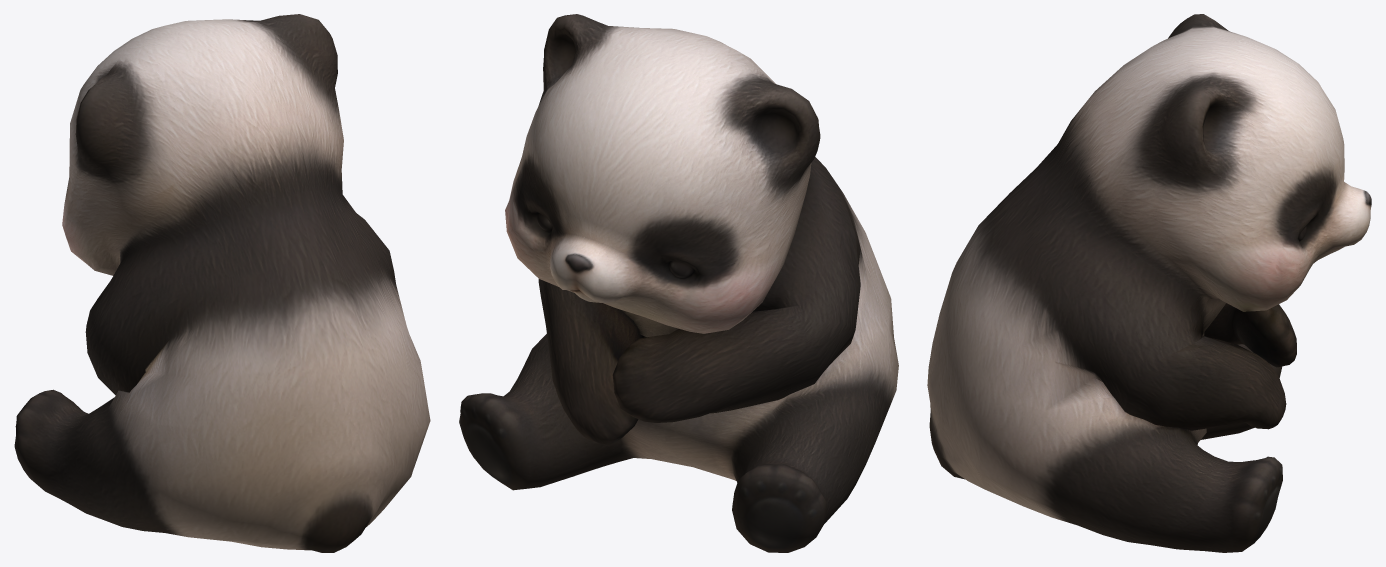
File: panda1.gltf
The picture shows the model from 3 angles, left to right: view 1: azimuth 30°, elevation 25°; view 2: azimuth 150°, elevation 25°; view 3: azimuth 270°, elevation 25°; orthographic projection. The views are drawn at different scales.
Parts seen in each view (by area): view 1: panda1; view 2: panda1; view 3: panda1.
Part boxes in pixels (left/top/right/bottom): panda1: left=14, top=14, right=430, bottom=552; panda1: left=459, top=14, right=898, bottom=552; panda1: left=927, top=14, right=1371, bottom=552.
Size of the model in its own units: 1.39 by 1.72 by 1.56.
Materials: 1 (1 with a texture image).
